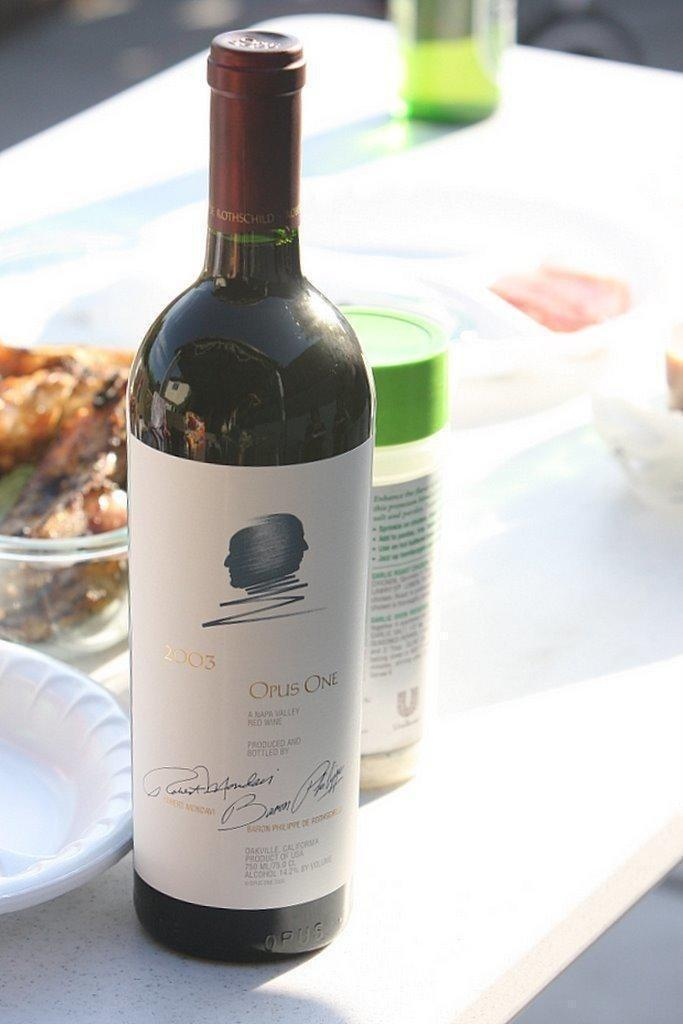bottle-glass: (121, 31, 374, 965)
